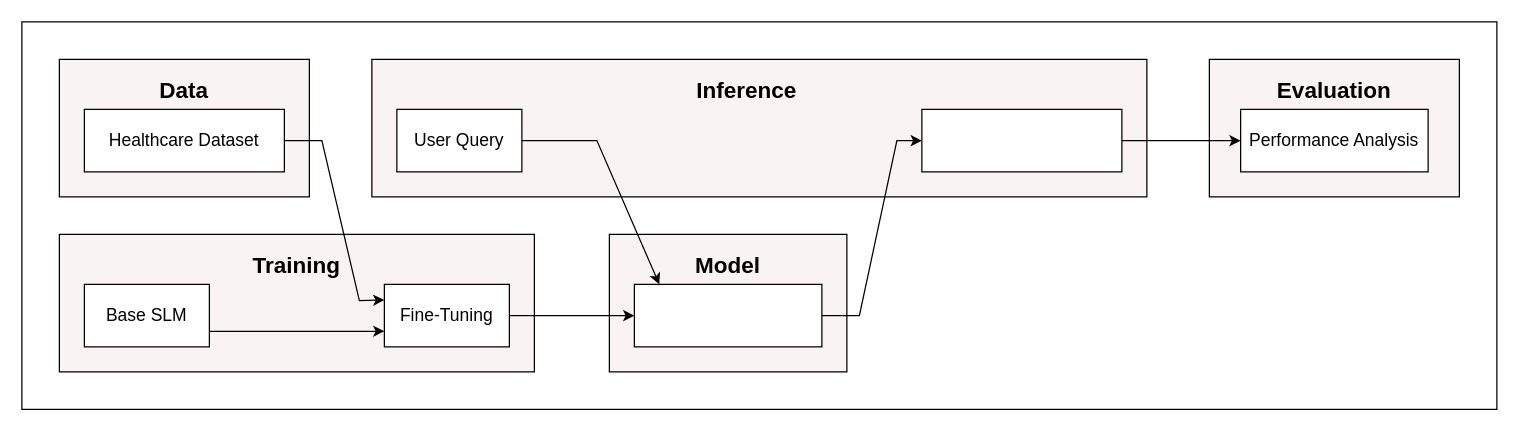
Image size: 1519x431. Some labels were removed from this diagram. The shapes that lost their labels are listed below. From the top down, each one's centre as x and y in pixels, then its label:
At [1021,140]: "Generated Response".
At [727,315]: "Healthcare SLM".
